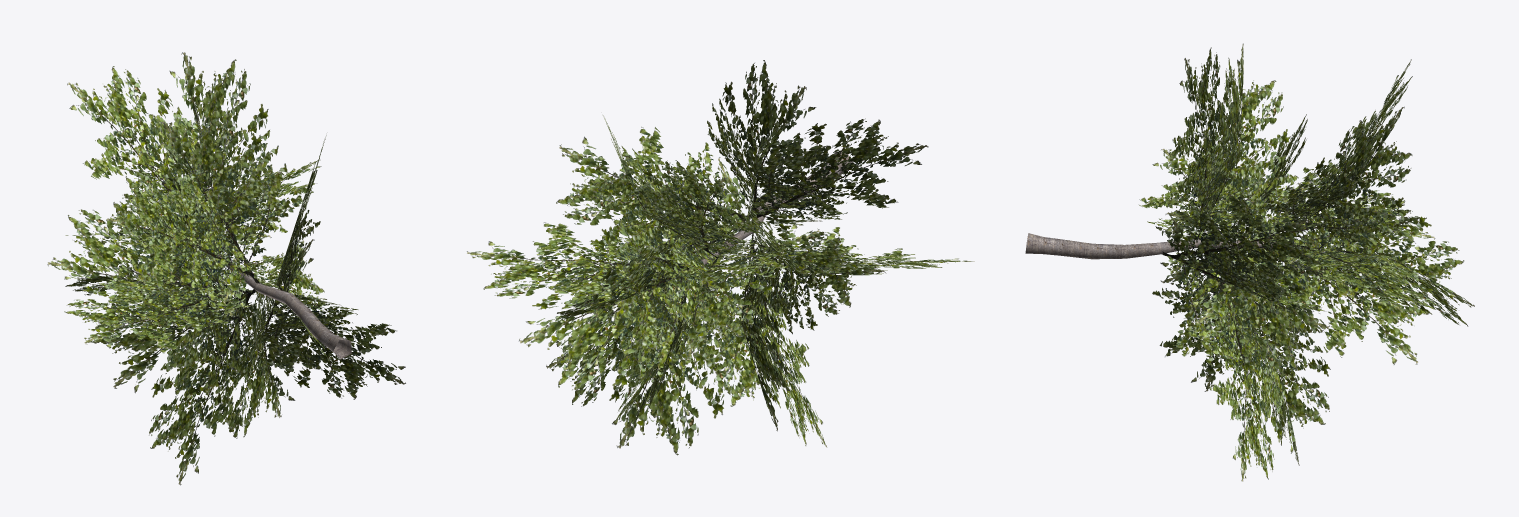
Rendered from baum hd fbx.fbx.
3 renders of one model, left to right at view 1: azimuth 30°, elevation 25°; view 2: azimuth 150°, elevation 25°; view 3: azimuth 270°, elevation 25°, orthographic. The views are drawn at different scales.
Visible parts, largest first — view 1: instance_7; view 2: instance_7; view 3: instance_7.
Boxes of the visible parts, <box> form: instance_7: <box>47,52,405,485</box>; instance_7: <box>466,60,974,455</box>; instance_7: <box>1025,43,1474,481</box>.
Size of the model in its own units: 13.73 by 15.03 by 14.63.
